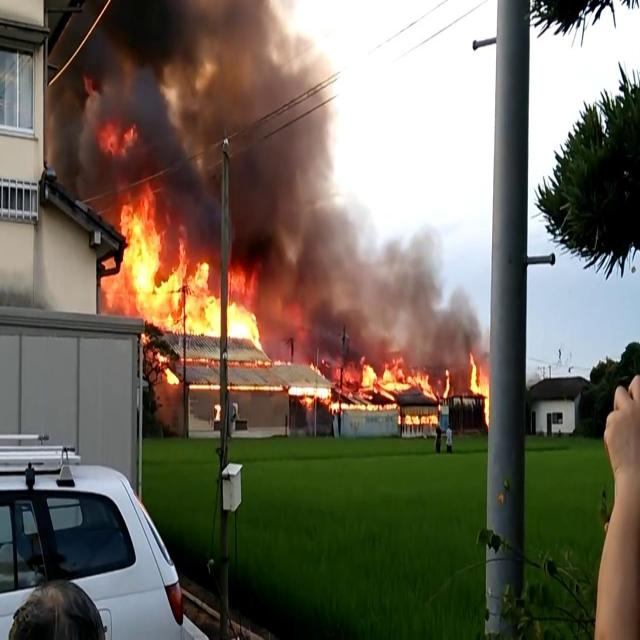Fire: (89, 192, 273, 357), (327, 357, 451, 400), (467, 355, 490, 424), (97, 124, 137, 153), (329, 401, 399, 411), (395, 410, 439, 424), (253, 356, 284, 368), (308, 361, 325, 378)
